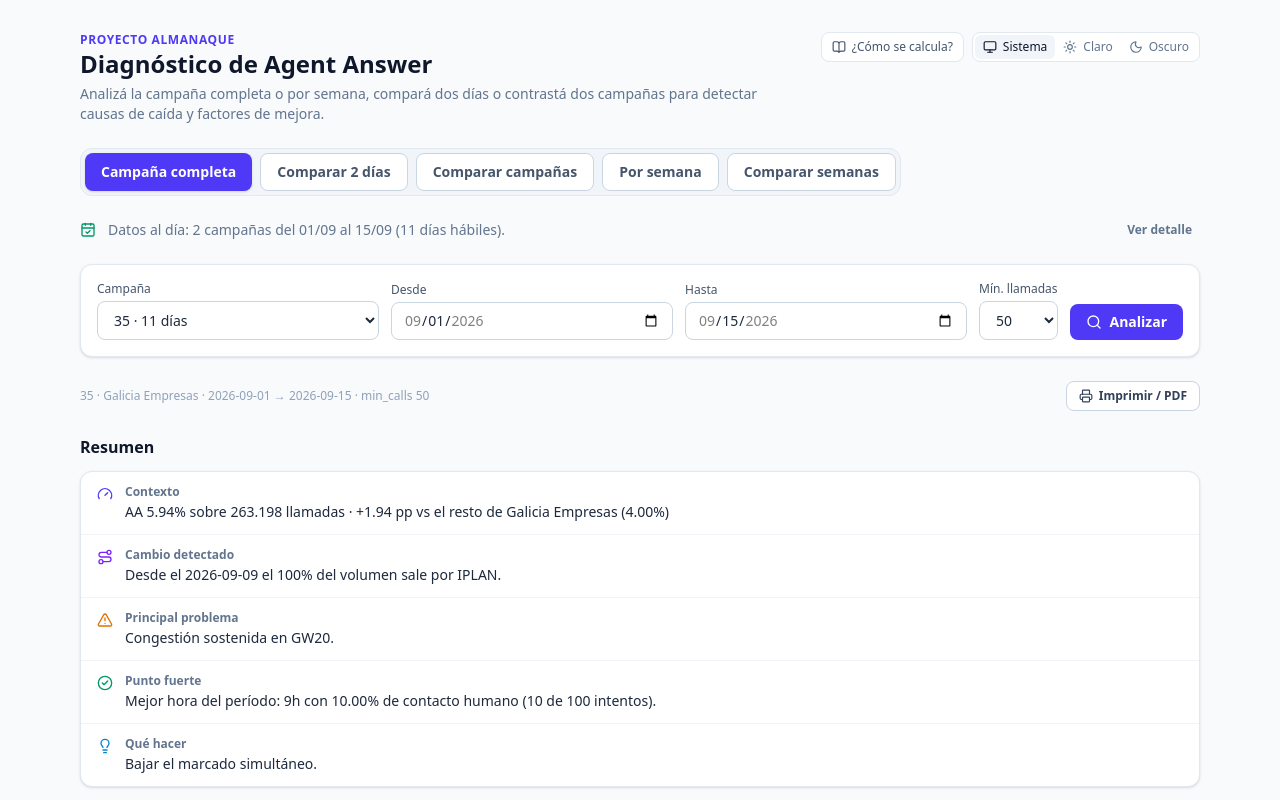
Exportación por modo › CompareMode ofrece 5 CSV + imprimir
This screenshot has width=1280, height=800.
Click the tab with test id "tab-compare". click: point(334, 172)
box: [260,153,408,191]
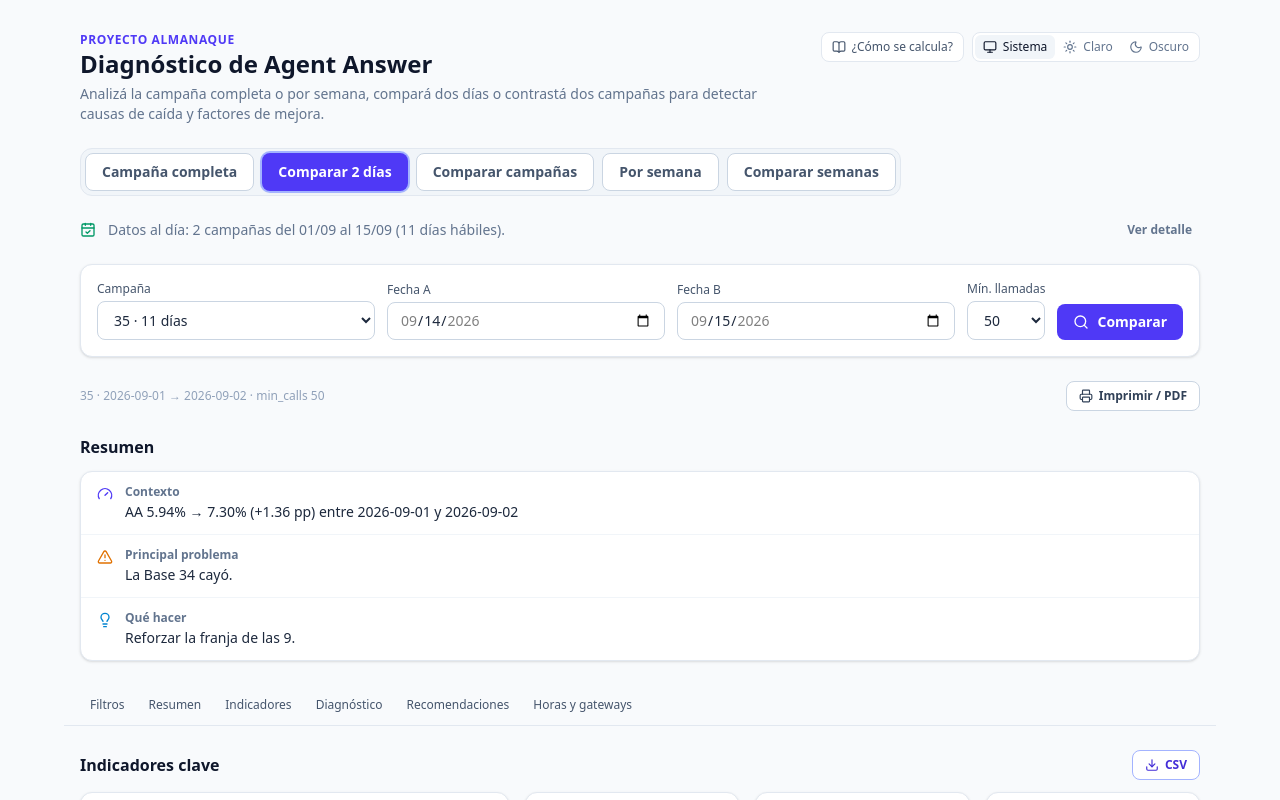
Expected: the button with test id "print-report" is shown, [1066,381,1200,411]
Expected: the number of buttons with test id "export-csv" is 5
